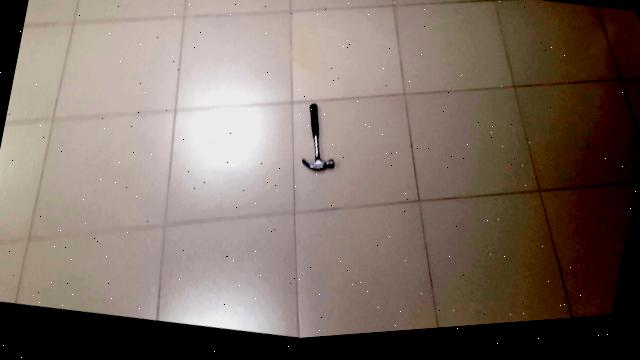hammer: (292, 93, 350, 188)
